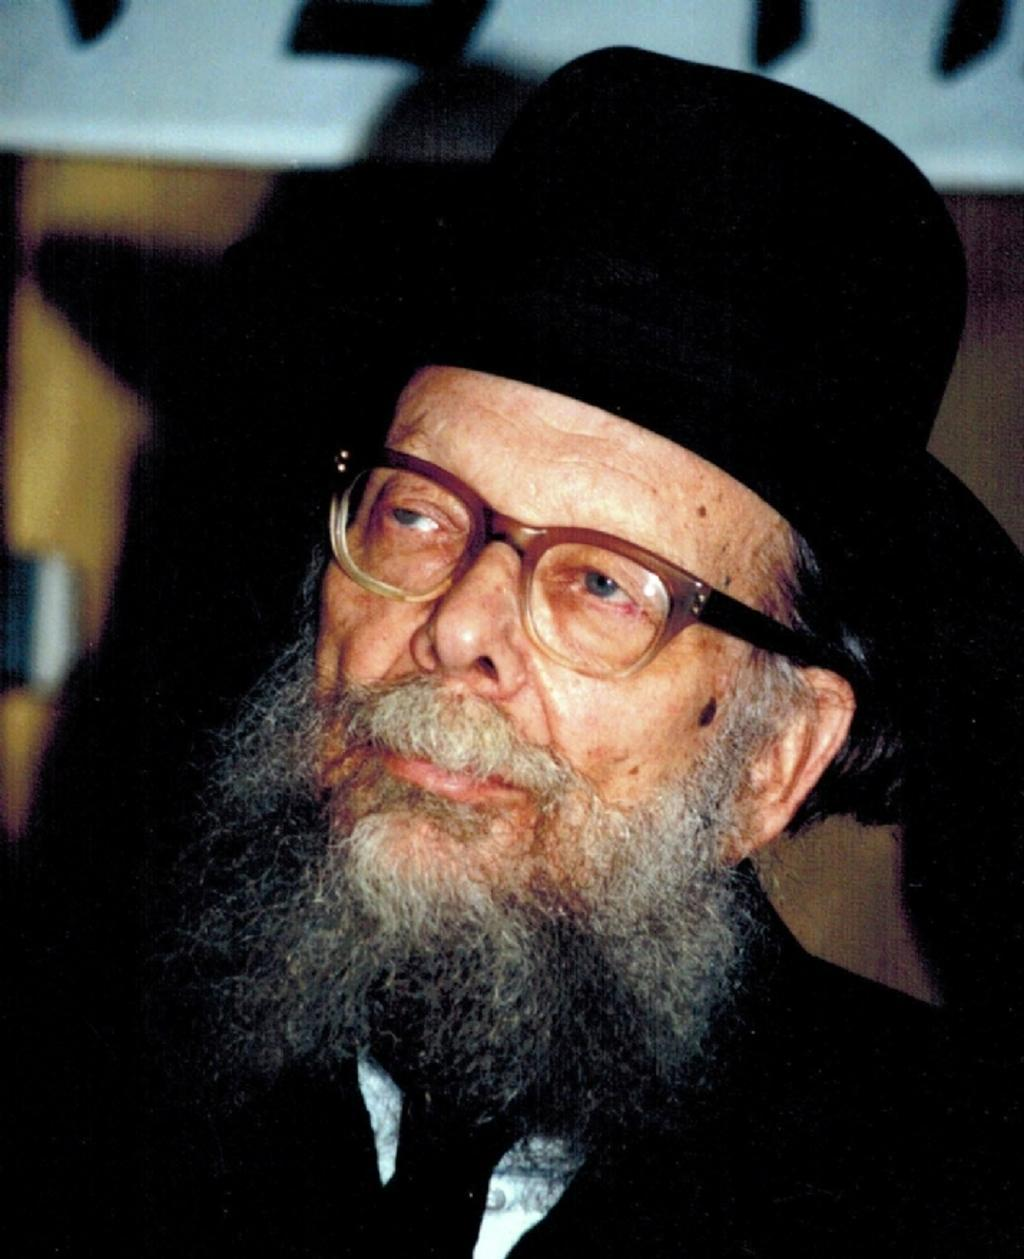face: (353, 331, 717, 873)
